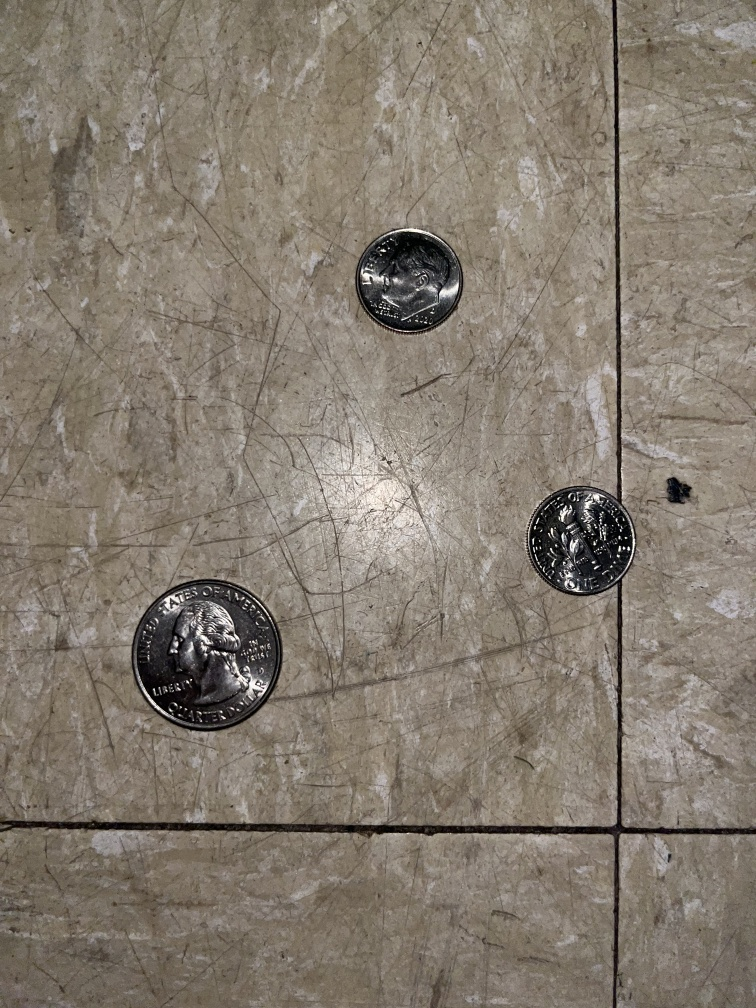dime: (341, 224, 470, 340), (522, 475, 637, 604)
quarter: (125, 574, 287, 740)
